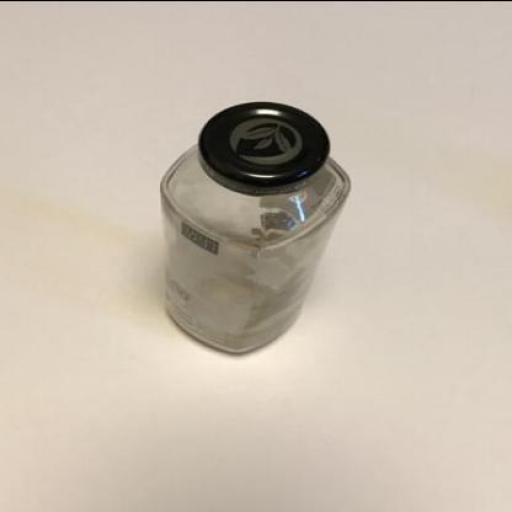glass: (159, 140, 348, 352)
metal: (197, 101, 332, 193)
